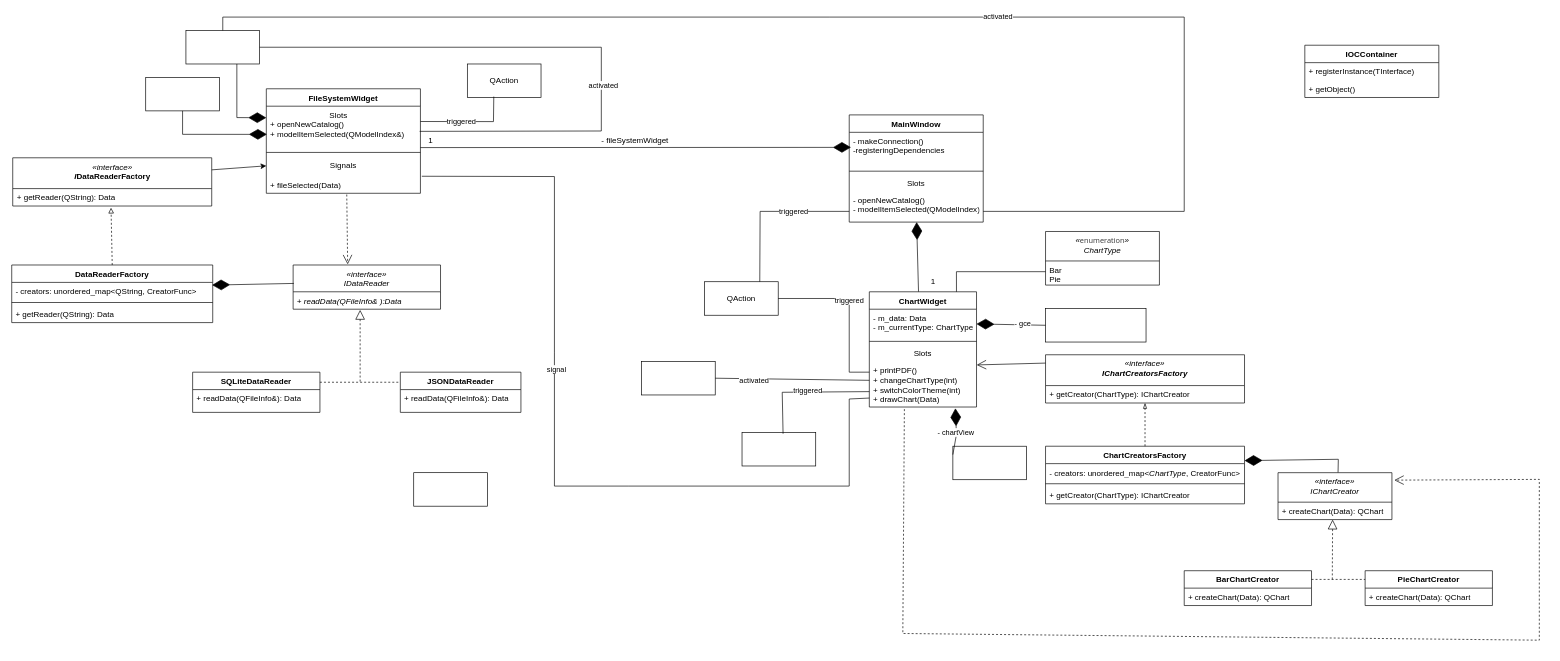
Some shapes in this 1560 by 661 pixel diagram are drawn without their labels. Each missing label, with the centre of its shape:
CheckBox: the point at 778,449
ComboBox: the point at 678,378
FileSystemModel: the point at 182,94
QChartView: the point at 989,463
QGraphicsColorizeEffect: the point at 1095,325
QTableView: the point at 222,47
«dataType» Data: the point at 450,489
